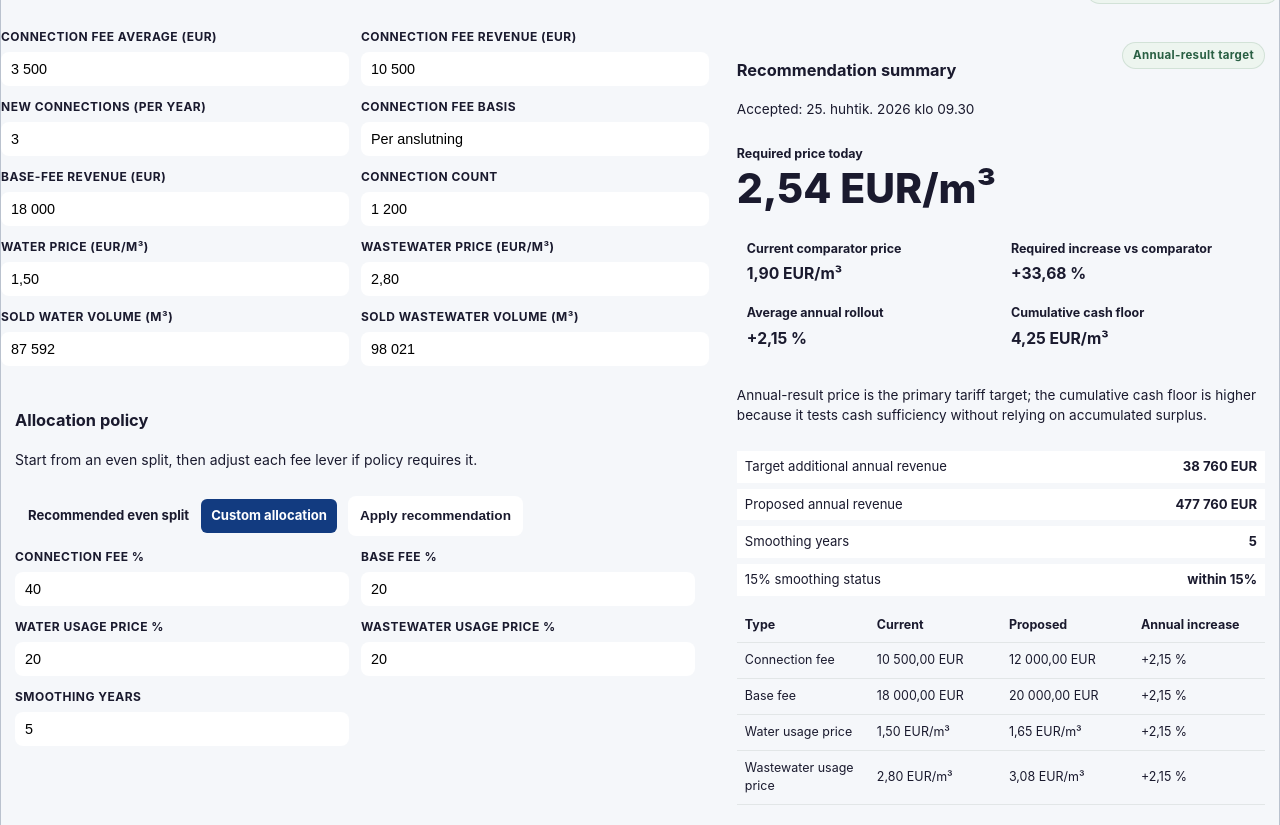
Test case: TariffPlanPageV2 › marks an accepted plan as not accepted when visible tariff fields change
This screenshot has width=1280, height=825.
Expected: the text "Annual-result price is the primary tariff target; the cumulative cash floor is higher because it tests cash sufficiency " is shown, [737,387,1256,423]
Replace the text in the field labelled "Water price" with "1.6" at (175, 279), box [1,262,349,296]
(page scrolled)
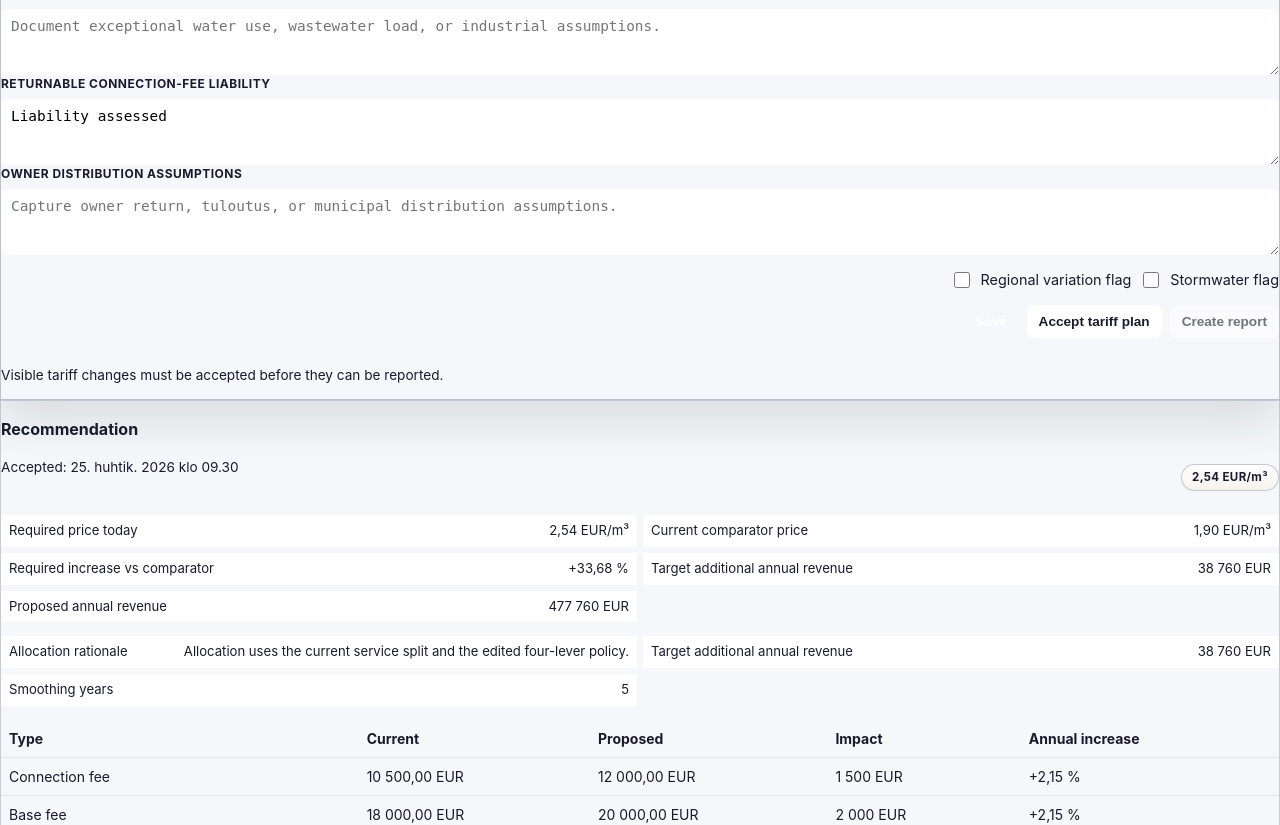
Result: the button "Create report" is disabled at [1170,305,1279,338]
Result: the text "Visible tariff changes must be accepted before they can be reported." is shown at [1,367,443,383]
